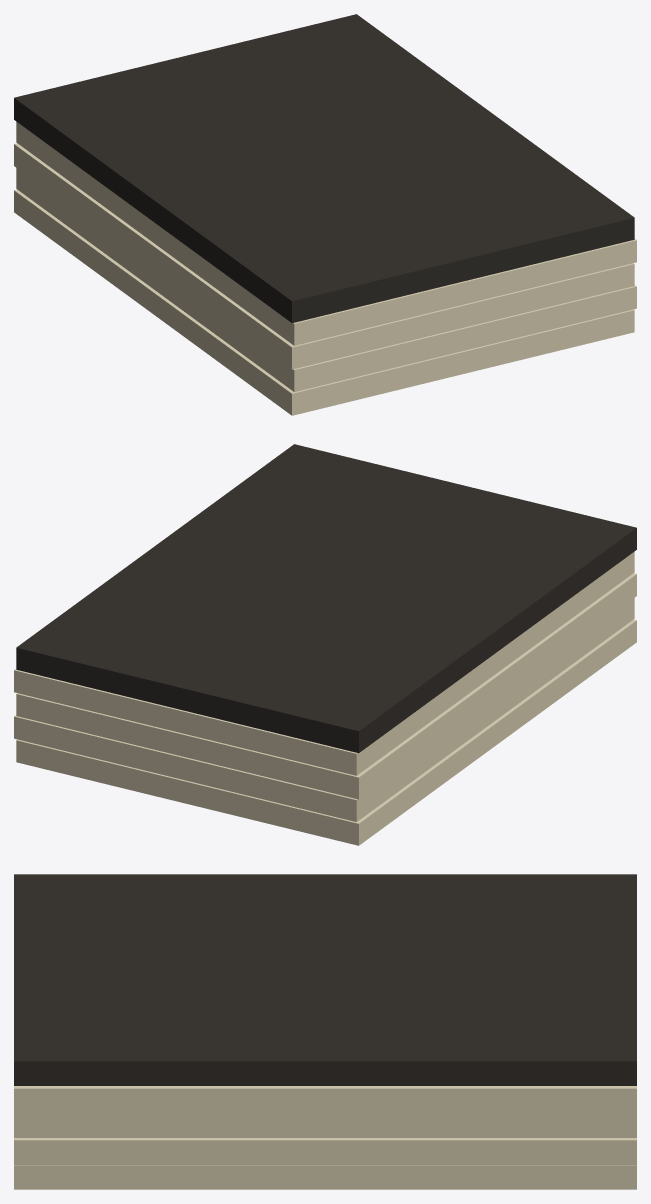
The model's file is pilha_cartas.glb.
The picture shows the model from 3 angles, top to bottom: view 1: azimuth 30°, elevation 25°; view 2: azimuth 150°, elevation 25°; view 3: azimuth 270°, elevation 25°; orthographic projection. The views are drawn at different scales.
Visible parts, largest first — view 1: pilha_cartas; view 2: pilha_cartas; view 3: pilha_cartas.
Boxes of the visible parts, bbox=[...] form: pilha_cartas: bbox=[14, 14, 636, 415]; pilha_cartas: bbox=[14, 444, 636, 845]; pilha_cartas: bbox=[14, 874, 636, 1189].
Size of the model in its own units: 6.3 by 2 by 8.8.
